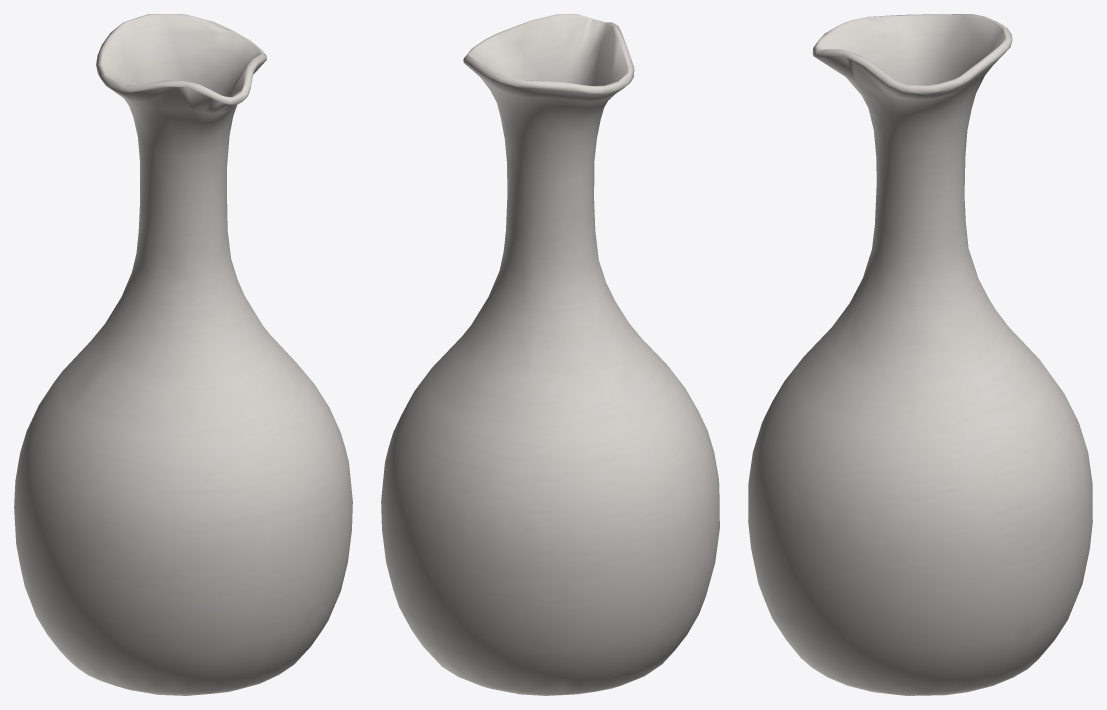
Rendered from ceramic_vase_01.fbx.
3 renders of one model, left to right at view 1: azimuth 30°, elevation 25°; view 2: azimuth 150°, elevation 25°; view 3: azimuth 270°, elevation 25°, orthographic.
Parts seen in each view (by area): view 1: ceramic_vase_01_LOD0; view 2: ceramic_vase_01_LOD0; view 3: ceramic_vase_01_LOD0.
Part boxes in pixels (box(x1,y1,x2,y2)): ceramic_vase_01_LOD0: box(14, 14, 352, 695); ceramic_vase_01_LOD0: box(381, 14, 719, 695); ceramic_vase_01_LOD0: box(748, 14, 1092, 695).
Size of what is drawn, in the model's own units: 20.39 by 40.04 by 20.33.
1 material, 1 textured.
